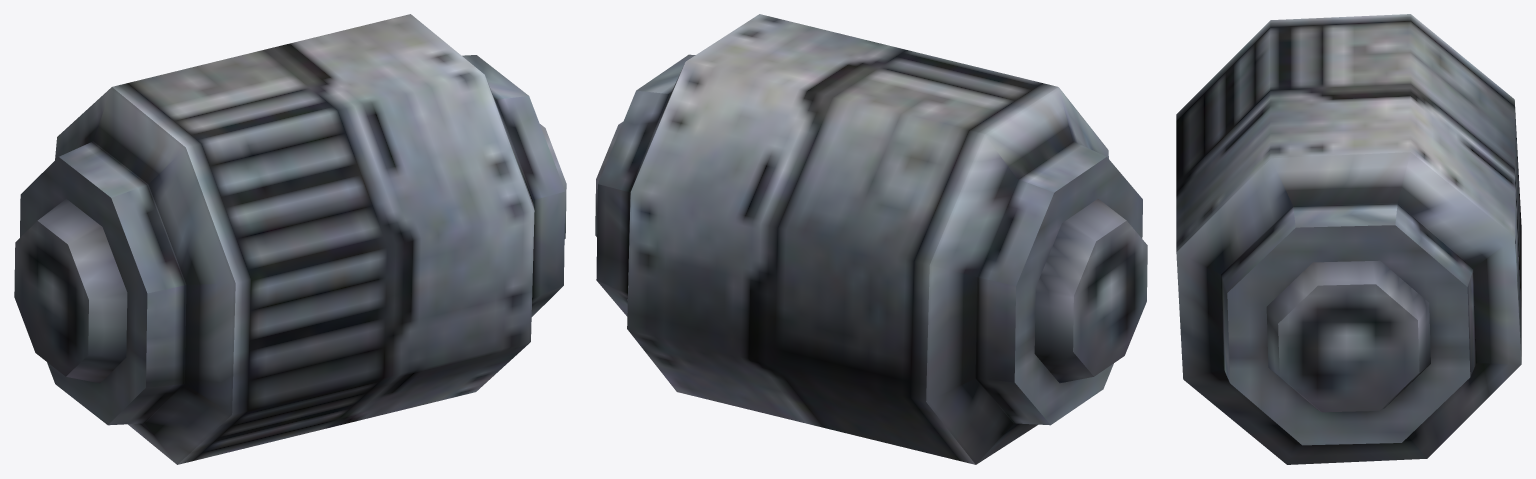
The model's file is SM_EN_1002_tong02.FBX.
3 views of the same model, side by side, from view 1: azimuth 30°, elevation 25°; view 2: azimuth 150°, elevation 25°; view 3: azimuth 270°, elevation 25° (orthographic). The views are drawn at different scales.
Parts seen in each view (by area): view 1: SM_EN_1002_tong02; view 2: SM_EN_1002_tong02; view 3: SM_EN_1002_tong02.
Part boxes in pixels (<box>): SM_EN_1002_tong02: <box>14,14,566,464</box>; SM_EN_1002_tong02: <box>595,14,1147,464</box>; SM_EN_1002_tong02: <box>1176,14,1521,464</box>.
Size of the model in its own units: 39.24 by 25.93 by 25.93.
